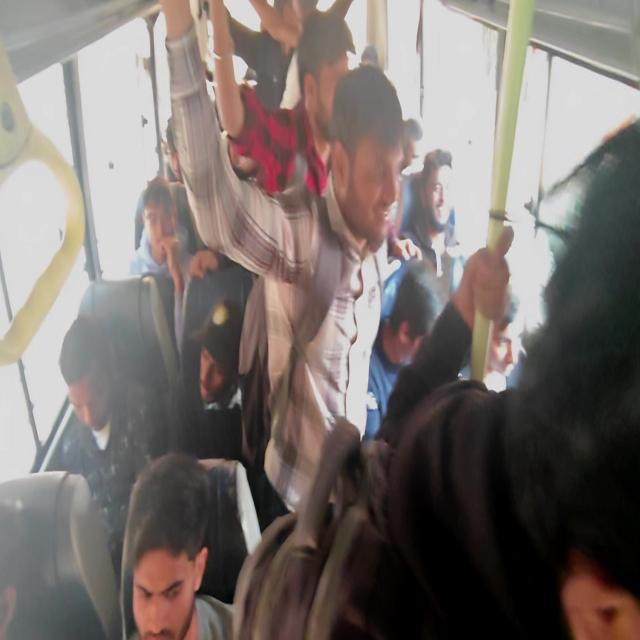person: (525, 188, 640, 640), (100, 494, 318, 640), (322, 72, 411, 238), (61, 328, 127, 488), (188, 328, 256, 441), (285, 26, 358, 124), (132, 167, 184, 265), (386, 273, 438, 345), (423, 137, 469, 218), (188, 221, 229, 276), (399, 120, 434, 172), (164, 113, 193, 167), (360, 42, 386, 88)
